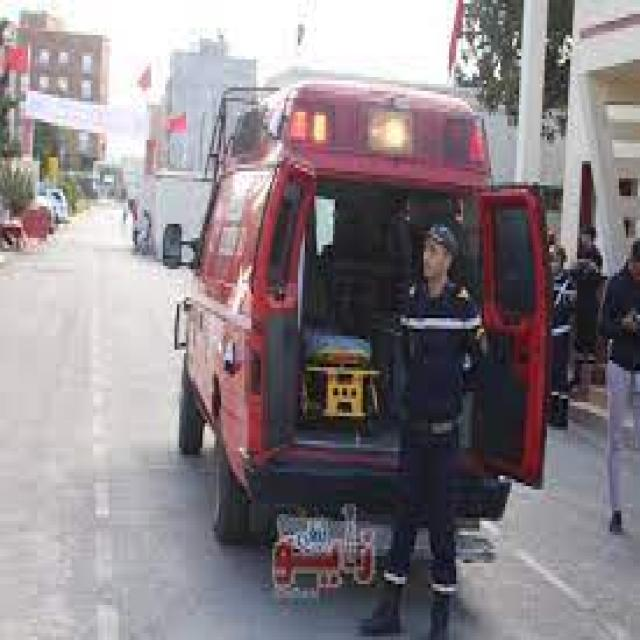ambulance: (174, 72, 548, 558)
